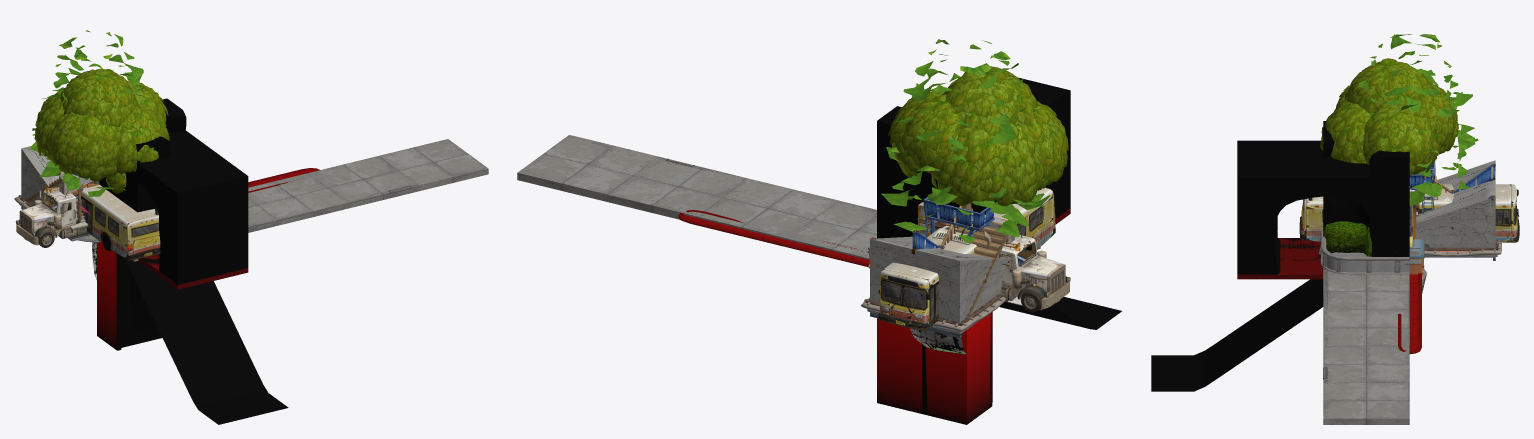
The model's file is city-2.glb.
The picture shows the model from 3 angles, left to right: view 1: azimuth 30°, elevation 25°; view 2: azimuth 150°, elevation 25°; view 3: azimuth 270°, elevation 25°; orthographic projection. The views are drawn at different scales.
Parts seen in each view (by area): view 1: /Game/Packages/DS_Fortnite_Terrain_NoLOD/Elevation/S_Cave_Tu, /Game/Packages/DS_Fortnite_Terrain_NoLOD/Elevation/S_Cave_Ra, /Game/Athena/Prototype/Terrain/Athena_Tree_Medium_01, /Game/Environments/World/Sidewalks/Meshes/S_Sidewalk_1x5_NoC, /Game/Packages/DS_Fortnite_Terrain_NoLOD/RetainingWalls/S_Wa (×2), /Game/Environments/World/Sidewalks/Meshes/S_Sidewalk_1x4, /Game/Vehicles/FORT_Vehicles_01/Meshes/CityBus, /Game/Vehicles/FORT_Vehicles_01/Meshes/SemiTruck_Tractor_01, /Game/Athena/Prototype/Terrain/Athena_Tree_Pine_02, /Game/Packages/DS_Fortnite_Terrain_NoLOD/Elevation/S_Cave_In, /Game/Environments/Sets/ParkingGarage/Meshes/SM_FloorBigRamp, /Game/Packages/DS_Fortnight/SM/Mesh/S_Road_Crosswalk_B (+1 smaller); view 2: /Game/Athena/Prototype/Terrain/Athena_Tree_Medium_01, /Game/Environments/World/Sidewalks/Meshes/S_Sidewalk_1x5_NoC, /Game/Packages/DS_Fortnite_Terrain_NoLOD/RetainingWalls/S_Wa (×2), /Game/Environments/World/Sidewalks/Meshes/S_Sidewalk_1x4, /Game/Environments/Sets/ParkingGarage/Meshes/SM_FloorBigRamp, /Game/Vehicles/FORT_Vehicles_01/Meshes/CityBus, /Game/Athena/Prototype/Terrain/Athena_Tree_Pine_02, /Game/Vehicles/FORT_Vehicles_01/Meshes/SemiTruck_Tractor_01, /Game/Packages/DS_Fortnite_Terrain_NoLOD/Elevation/S_Cave_Tu, /Game/Packages/DS_Fortnite_Terrain_NoLOD/Elevation/S_Cave_In, /Game/Packages/DS_Fortnite_Terrain_NoLOD/Elevation/S_Cave_Ra, /Game/Environments/World/Sidewalks/Meshes/S_Sidewalk_Street_ (+4 smaller); view 3: /Game/Packages/DS_Fortnite_Terrain_NoLOD/Elevation/S_Cave_Tu, /Game/Athena/Prototype/Terrain/Athena_Tree_Medium_01, /Game/Environments/World/Sidewalks/Meshes/S_Sidewalk_1x5_NoC, /Game/Environments/World/Sidewalks/Meshes/S_Sidewalk_1x4, /Game/Packages/DS_Fortnite_Terrain_NoLOD/Elevation/S_Cave_Ra, /Game/Packages/DS_Fortnite_Terrain_NoLOD/Elevation/S_Cave_In, /Game/Environments/Sets/ParkingGarage/Meshes/SM_FloorBigRamp, /Game/Athena/Prototype/Terrain/Athena_Tree_Pine_02, /Game/Vehicles/FORT_Vehicles_01/Meshes/CityBus, /Game/Packages/DS_Fortnight/SM/Mesh/S_Road_Crosswalk_B, /Game/Packages/DS_Fortnight/SM/Mesh/S_Bridge_Railing_Curve_B, /Game/Environments/Props/Shrubs/Meshes/Shrub_LShaped_192 (+5 smaller).
Boxes of the visible parts, <box> form: /Game/Packages/DS_Fortnite_Terrain_NoLOD/Elevation/S_Cave_Tu: <box>104,130,248,284</box>; /Game/Packages/DS_Fortnite_Terrain_NoLOD/Elevation/S_Cave_Ra: <box>125,258,288,424</box>; /Game/Athena/Prototype/Terrain/Athena_Tree_Medium_01: <box>34,68,169,193</box>; /Game/Environments/World/Sidewalks/Meshes/S_Sidewalk_1x5_NoC: <box>248,139,488,227</box>; /Game/Packages/DS_Fortnite_Terrain_NoLOD/RetainingWalls/S_Wa (×2): <box>97,242,162,350</box>; /Game/Environments/World/Sidewalks/Meshes/S_Sidewalk_1x4: <box>248,156,418,232</box>; /Game/Vehicles/FORT_Vehicles_01/Meshes/CityBus: <box>63,174,160,260</box>; /Game/Vehicles/FORT_Vehicles_01/Meshes/SemiTruck_Tractor_01: <box>16,171,83,247</box>; /Game/Athena/Prototype/Terrain/Athena_Tree_Pine_02: <box>30,30,144,196</box>; /Game/Packages/DS_Fortnite_Terrain_NoLOD/Elevation/S_Cave_In: <box>116,98,186,212</box>; /Game/Environments/Sets/ParkingGarage/Meshes/SM_FloorBigRamp: <box>21,146,58,206</box>; /Game/Packages/DS_Fortnight/SM/Mesh/S_Road_Crosswalk_B: <box>138,254,248,289</box>; /Game/Athena/Prototype/Terrain/Athena_Tree_Medium_01: <box>888,66,1068,206</box>; /Game/Environments/World/Sidewalks/Meshes/S_Sidewalk_1x5_NoC: <box>517,135,876,247</box>; /Game/Packages/DS_Fortnite_Terrain_NoLOD/RetainingWalls/S_Wa (×2): <box>877,312,992,424</box>; /Game/Environments/World/Sidewalks/Meshes/S_Sidewalk_1x4: <box>607,157,869,259</box>; /Game/Environments/Sets/ParkingGarage/Meshes/SM_FloorBigRamp: <box>870,236,1008,334</box>; /Game/Vehicles/FORT_Vehicles_01/Meshes/CityBus: <box>878,187,1055,330</box>; /Game/Athena/Prototype/Terrain/Athena_Tree_Pine_02: <box>881,39,1050,243</box>; /Game/Vehicles/FORT_Vehicles_01/Meshes/SemiTruck_Tractor_01: <box>984,224,1070,312</box>; /Game/Packages/DS_Fortnite_Terrain_NoLOD/Elevation/S_Cave_Tu: <box>877,77,1070,237</box>; /Game/Packages/DS_Fortnite_Terrain_NoLOD/Elevation/S_Cave_In: <box>877,106,996,238</box>; /Game/Packages/DS_Fortnite_Terrain_NoLOD/Elevation/S_Cave_Ra: <box>999,297,1121,329</box>; /Game/Environments/World/Sidewalks/Meshes/S_Sidewalk_Street_: <box>678,210,869,266</box>; /Game/Packages/DS_Fortnite_Terrain_NoLOD/Elevation/S_Cave_Tu: <box>1237,140,1371,274</box>; /Game/Athena/Prototype/Terrain/Athena_Tree_Medium_01: <box>1320,58,1458,175</box>; /Game/Environments/World/Sidewalks/Meshes/S_Sidewalk_1x5_NoC: <box>1323,255,1409,424</box>; /Game/Environments/World/Sidewalks/Meshes/S_Sidewalk_1x4: <box>1323,255,1409,382</box>; /Game/Packages/DS_Fortnite_Terrain_NoLOD/Elevation/S_Cave_Ra: <box>1151,279,1323,391</box>; /Game/Packages/DS_Fortnite_Terrain_NoLOD/Elevation/S_Cave_In: <box>1323,121,1409,256</box>; /Game/Environments/Sets/ParkingGarage/Meshes/SM_FloorBigRamp: <box>1411,160,1495,257</box>; /Game/Athena/Prototype/Terrain/Athena_Tree_Pine_02: <box>1359,34,1478,205</box>; /Game/Vehicles/FORT_Vehicles_01/Meshes/CityBus: <box>1299,184,1519,242</box>; /Game/Packages/DS_Fortnight/SM/Mesh/S_Road_Crosswalk_B: <box>1237,238,1323,279</box>; /Game/Packages/DS_Fortnight/SM/Mesh/S_Bridge_Railing_Curve_B: <box>1320,230,1409,274</box>; /Game/Environments/Props/Shrubs/Meshes/Shrub_LShaped_192: <box>1324,221,1396,256</box>.
Bounding box in the file's own units: 30.88 × 22.4 × 21.91.
211 materials, 209 textured.
